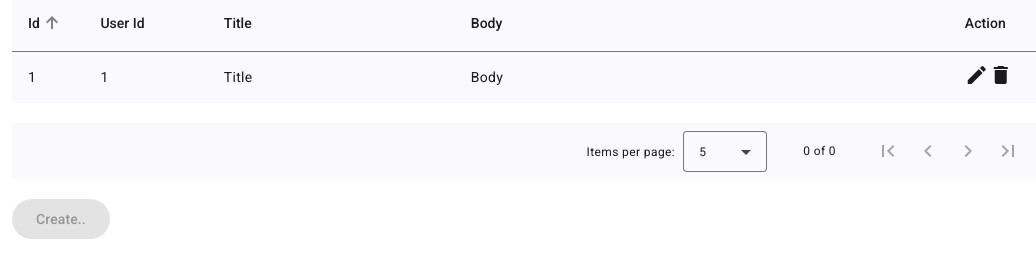
ResultComponent › should contain one row and clicking the EDIT icon should display TITLE & BODY input fields
The image size is (1036, 267).
Click the picture with id "result-edit" at (977, 75), box x1=965 y1=63 x2=989 y2=87
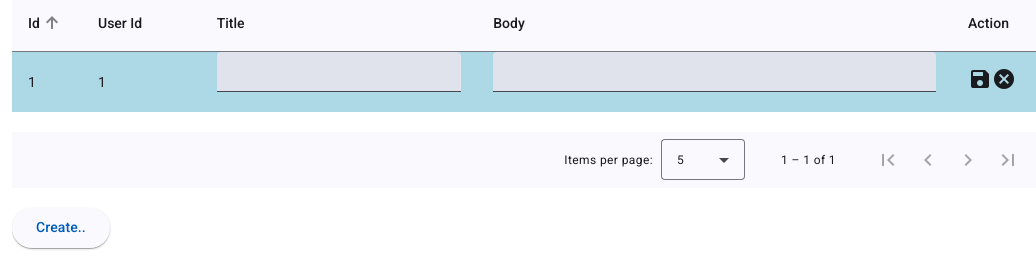
Now the picture with id "result-save" is shown, box x1=968 y1=67 x2=992 y2=91
Now the picture with id "result-cancel" is shown
Click the picture with id "result-cancel" at (1004, 79), box x1=992 y1=67 x2=1016 y2=91
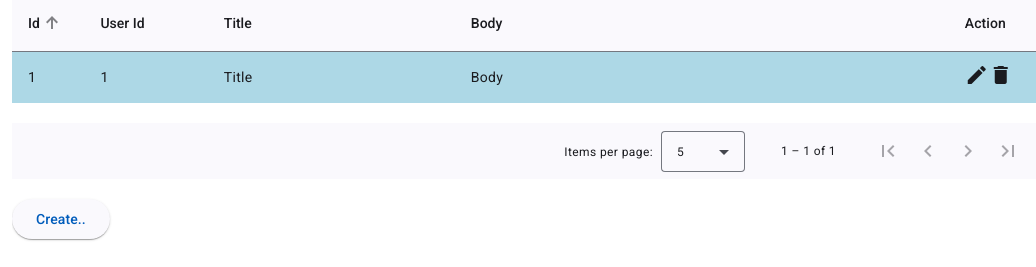
Now the picture with id "result-cancel" is gone
